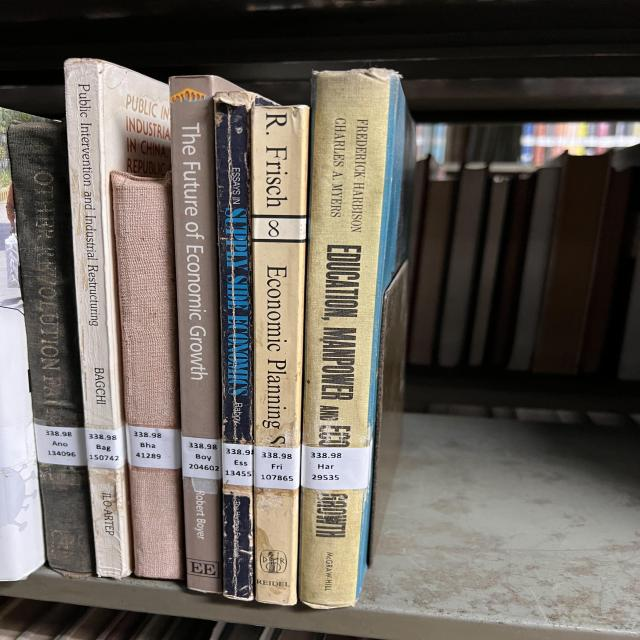Book: (298, 69, 415, 609), (65, 59, 170, 579), (7, 121, 95, 578), (170, 75, 240, 594), (250, 105, 310, 605), (112, 171, 185, 579), (213, 91, 268, 601), (0, 134, 45, 581)
Label: (300, 445, 372, 490), (127, 425, 182, 469), (33, 424, 87, 466), (253, 446, 300, 490), (182, 436, 222, 480), (85, 426, 125, 469), (222, 444, 253, 486)
